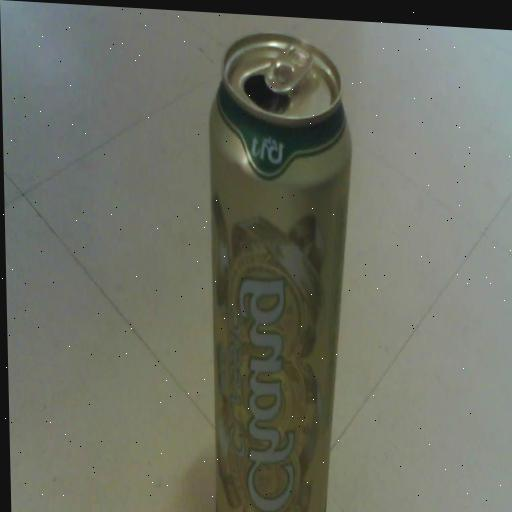canned: (191, 17, 374, 512)
